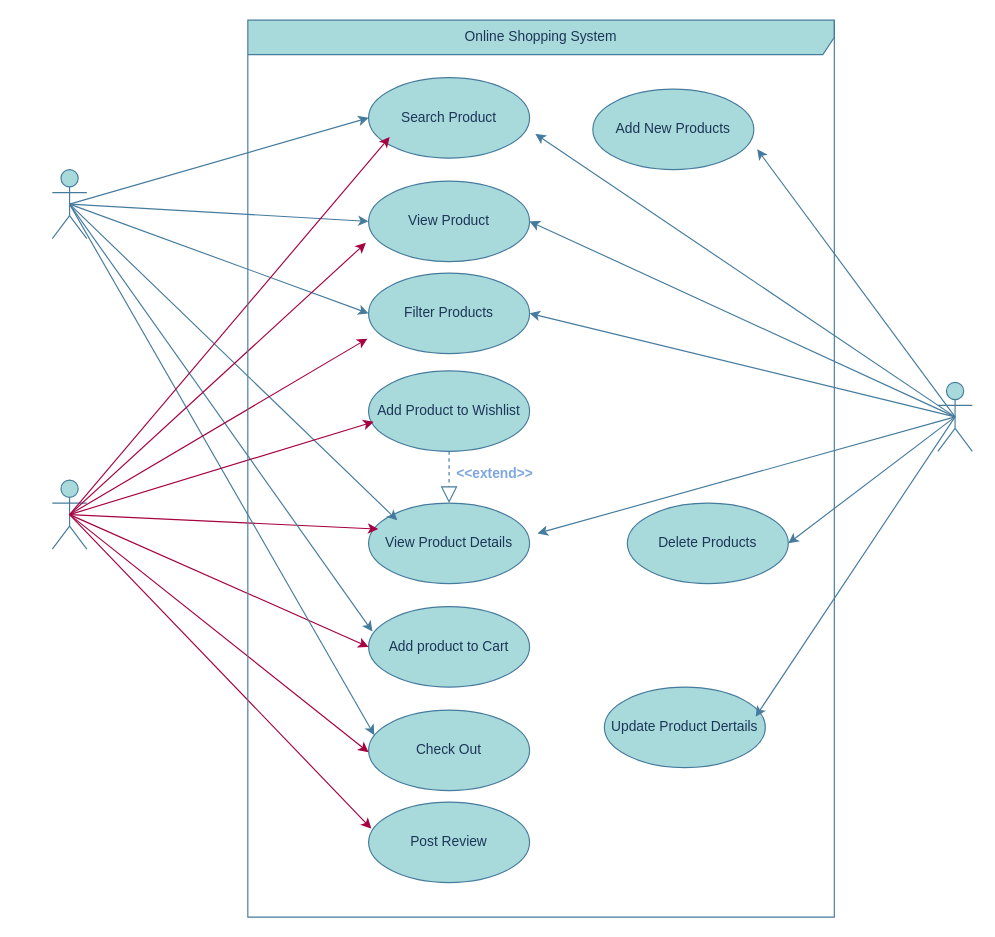
The diagram is 995 pixels wide and 937 high, and some of its shapes have lost their labels. Here are the shapes that lost their labels. From the top down, the box of each, then its label:
(51, 168, 87, 239): Guest
(937, 381, 972, 451): Admin
(51, 479, 87, 549): Registered User
